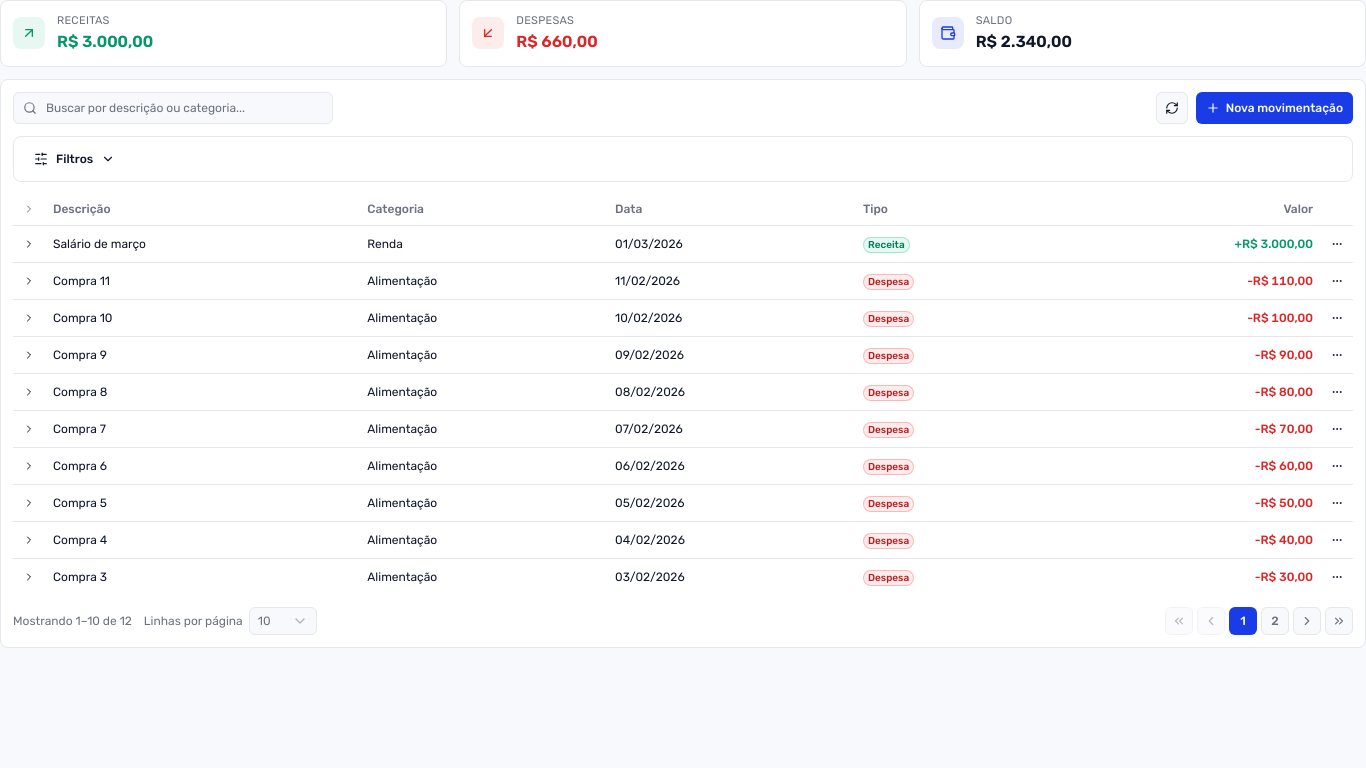
Test case: TransactionsSection › filters by search and resets pagination
Expected: the text "Salário de março" is shown, [45,226,359,262]
Click the button named "Próxima página" at (1307, 621), box [1293,607,1321,635]
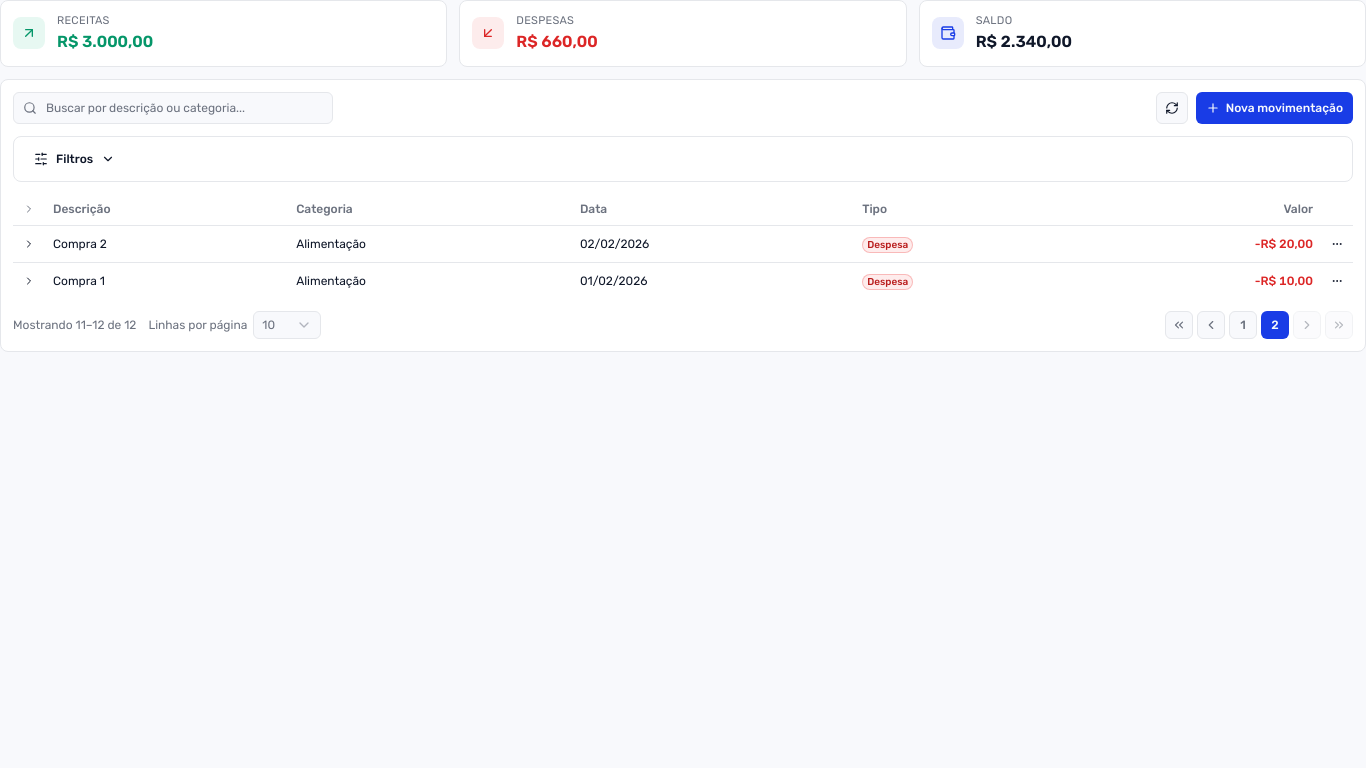
Result: the text "Mostrando 11–12 de 12" is shown at [13,317,136,333]
Type "Salário" into the field labelled "Buscar" at (173, 108), box [13,92,333,124]
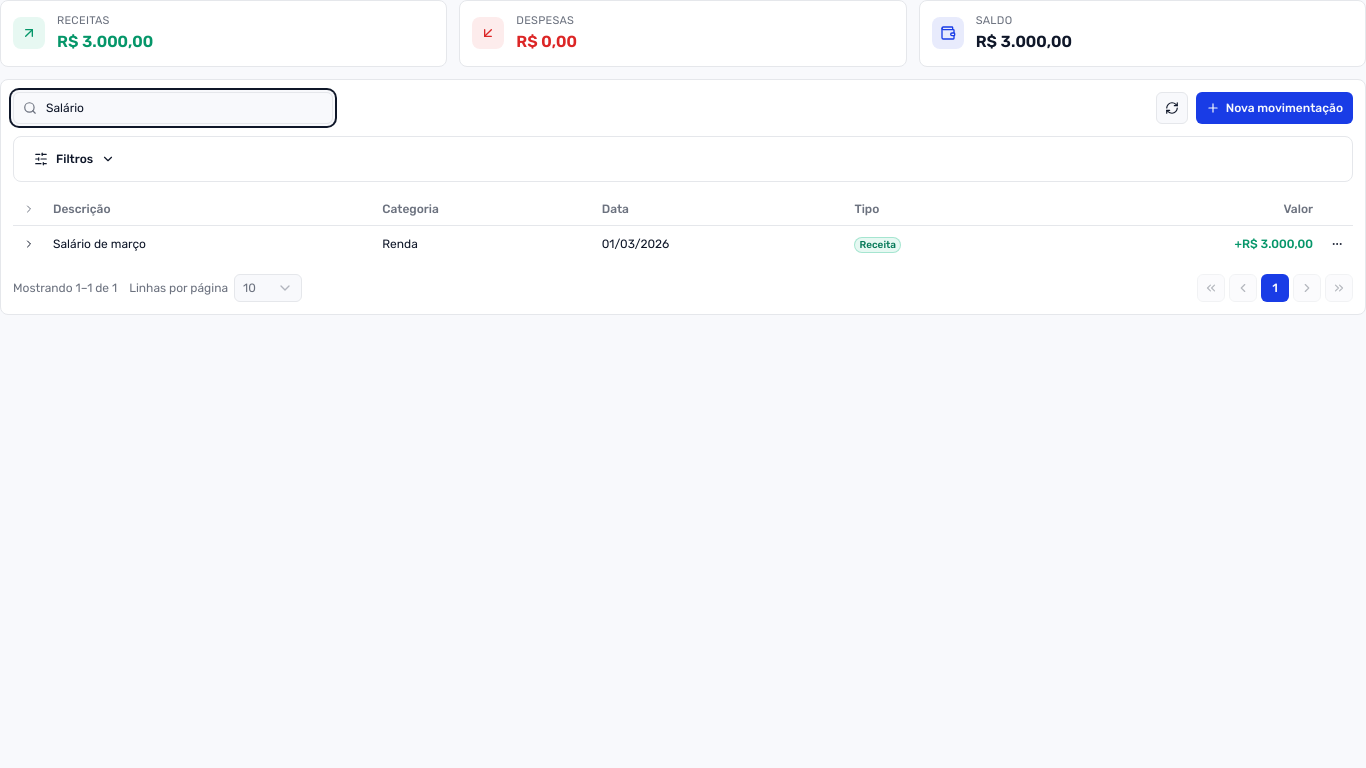
Result: the text "Mostrando 1–1 de 1" is shown at [13,280,117,296]
